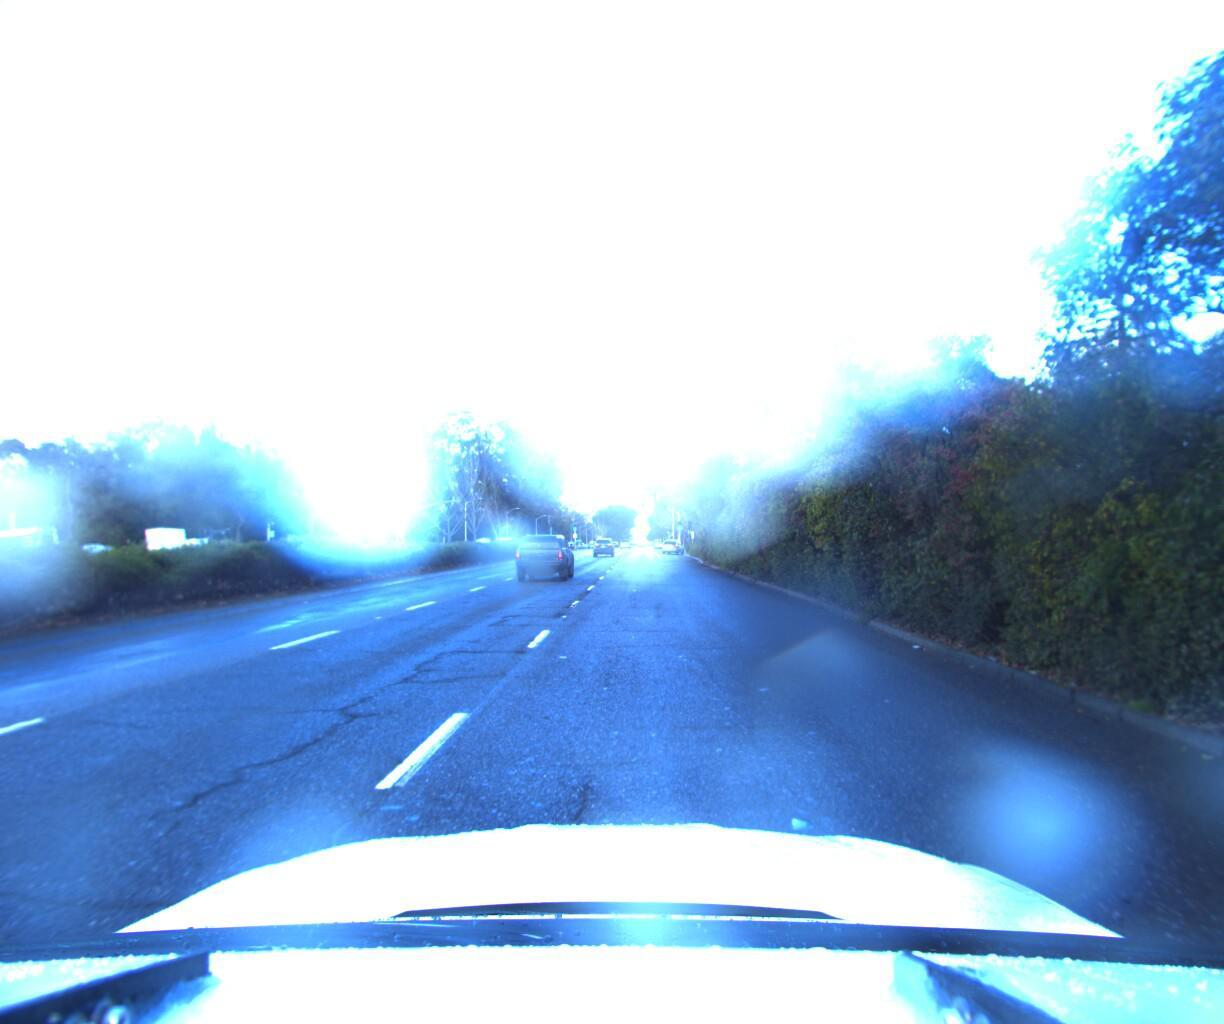car: (512, 534, 578, 584), (591, 532, 616, 552)
